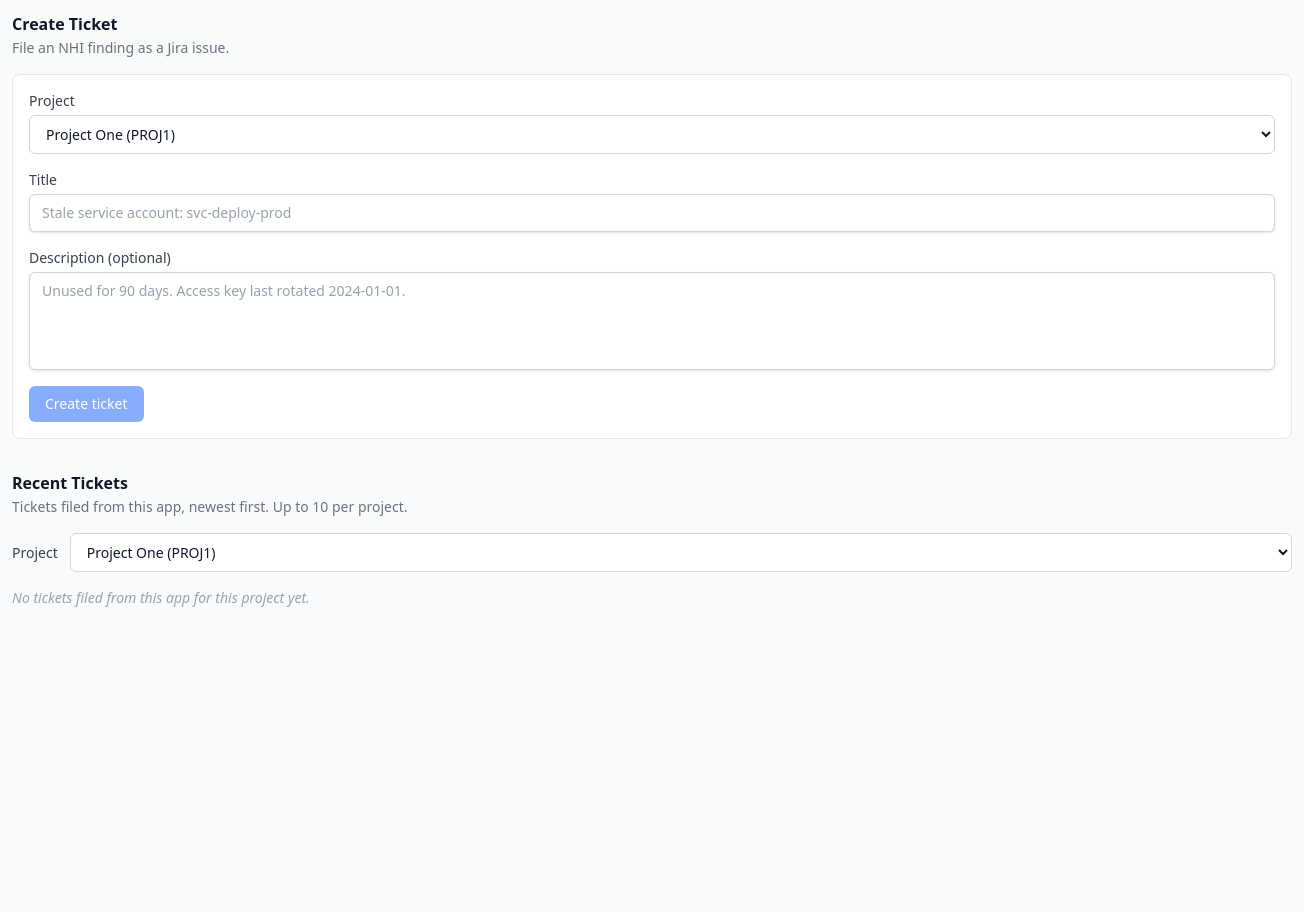
Scenario: TicketsSection — create ticket (errors) › shows an inline field error for PROJECT_NOT_FOUND
The width and height of the screenshot is (1304, 912).
Expected: the number of dropdowns labelled "Project" is 2, [29,115,1275,154]; [70,533,1292,572]
In the field labelled "Title": (652, 213) [29,194,1275,232], type "ticket"
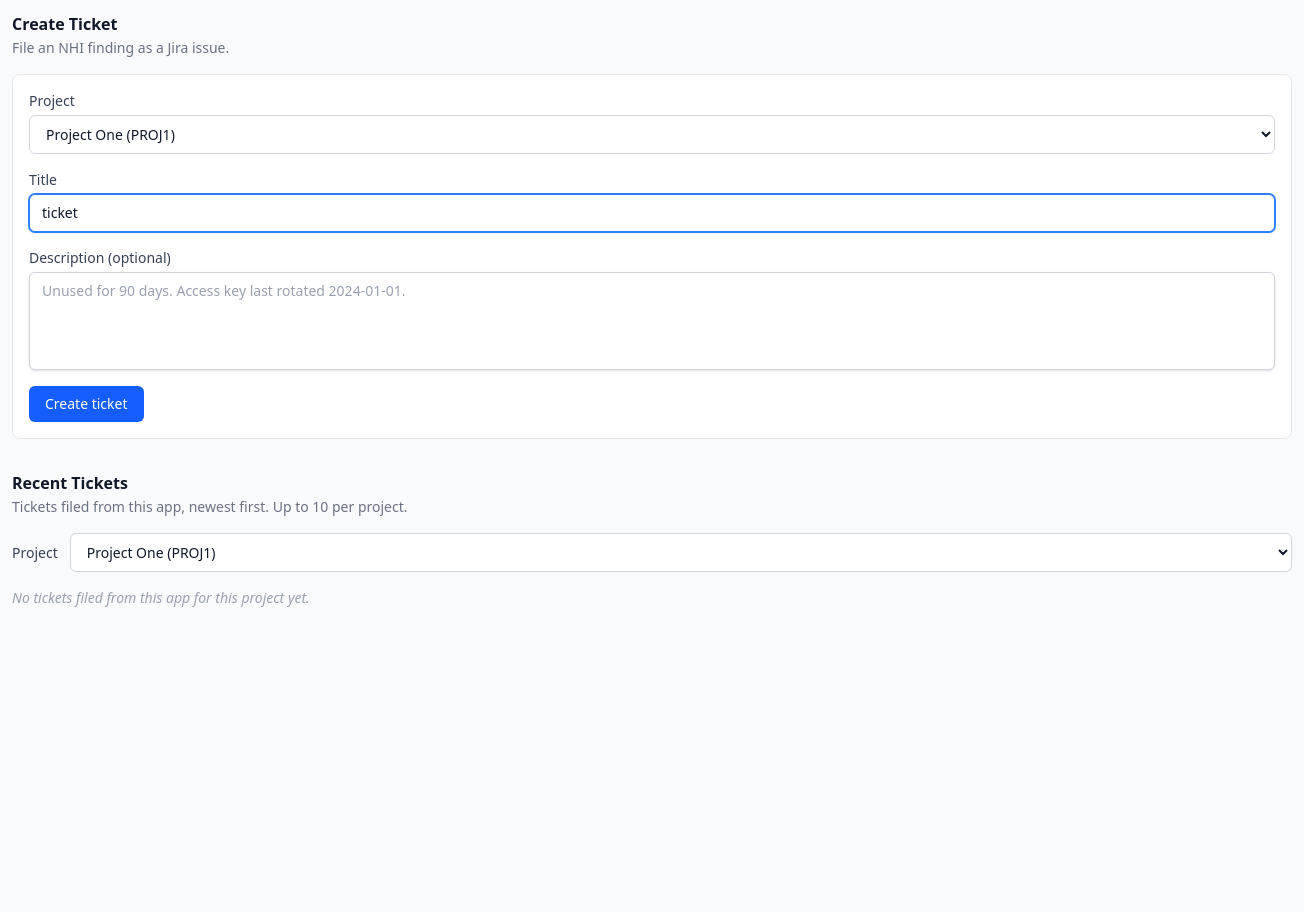
Click the button "Create ticket": (86, 404) [29,386,144,422]
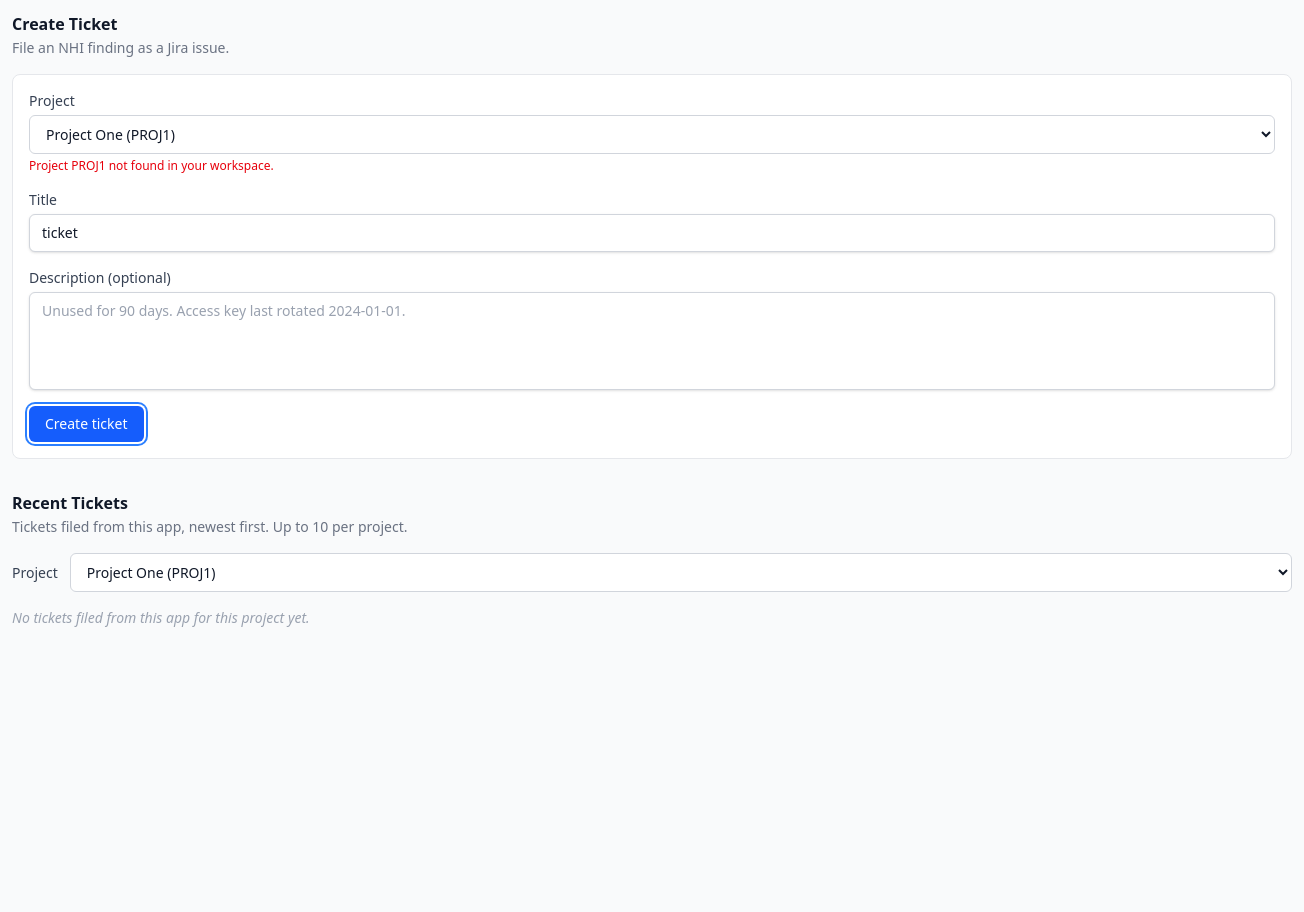
Expected: the text "Project PROJ1 not found in your workspace." is shown, [29,157,274,174]
